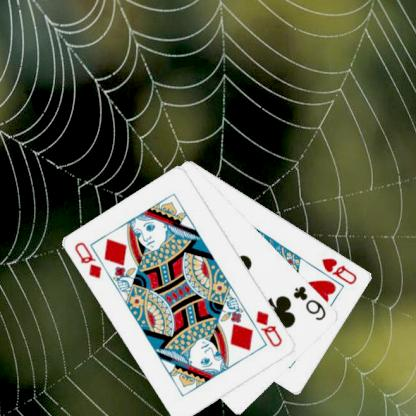6C: (290, 282, 328, 323)
QD: (72, 239, 104, 280), (253, 307, 284, 349)
QH: (319, 255, 359, 286)
